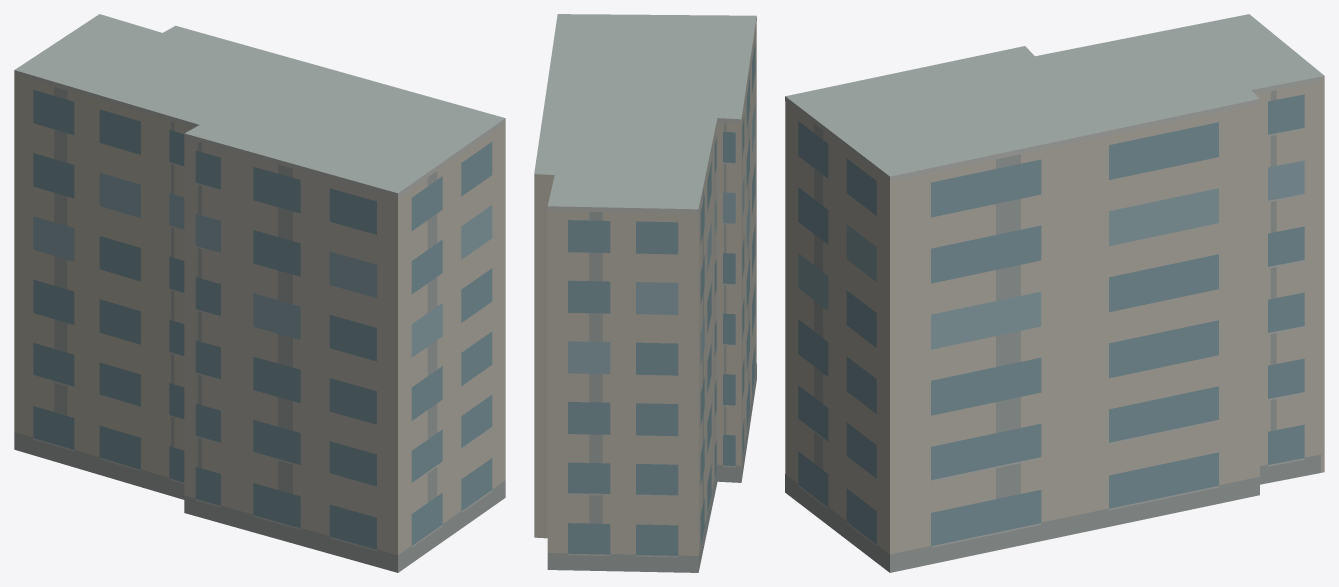
File: survey-upis-32733550.glb
The picture shows the model from 3 angles, left to right: view 1: azimuth 30°, elevation 25°; view 2: azimuth 150°, elevation 25°; view 3: azimuth 270°, elevation 25°; orthographic projection. The views are drawn at different scales.
Visible parts, largest first — view 1: survey-upis-32733550.tmp; view 2: survey-upis-32733550.tmp; view 3: survey-upis-32733550.tmp.
Part boxes in pixels (x1,y1,x2,y2): survey-upis-32733550.tmp: (14,14,505,572); survey-upis-32733550.tmp: (534,14,756,572); survey-upis-32733550.tmp: (785,14,1324,572).
Size of the model in its own units: 16.73 by 19 by 23.45.
